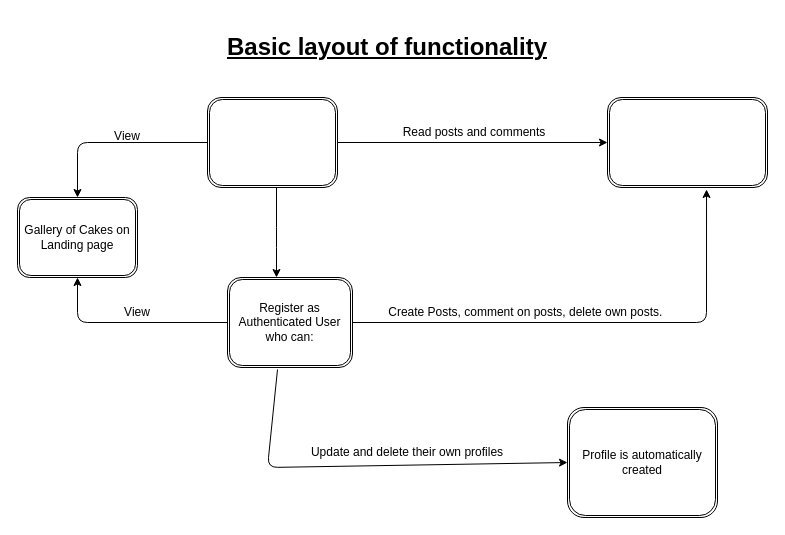
Image size: 785x535. Some labels were removed from this diagram. The shapes that lost their labels are listed below. From the top down, each one's centre as x and y in pixels, then its label:
the point at 272,142: Unregistered User can:
the point at 687,142: Posts
